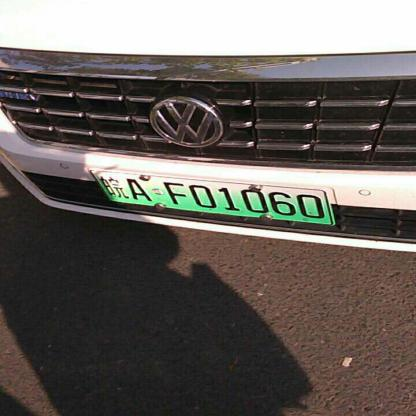lp: (90, 171, 334, 223)
